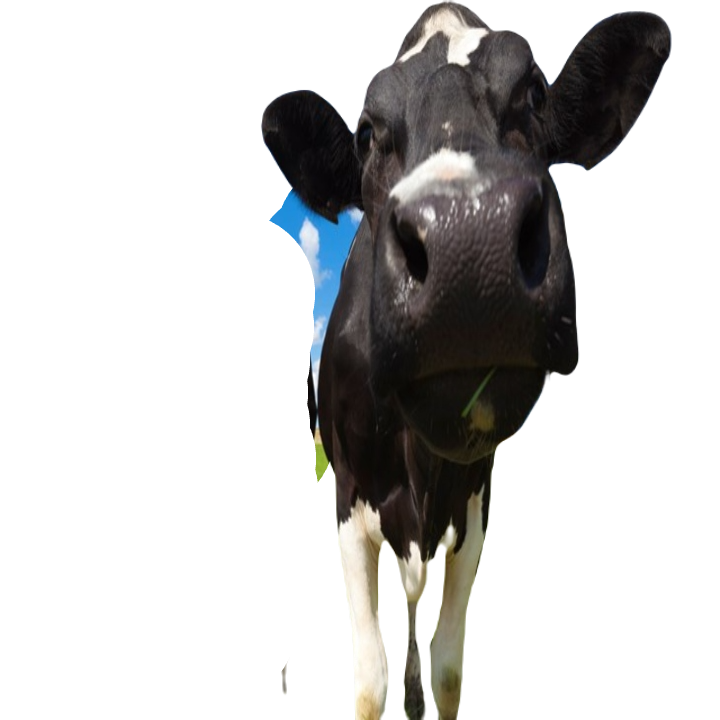Cow: (240, 1, 675, 718)
